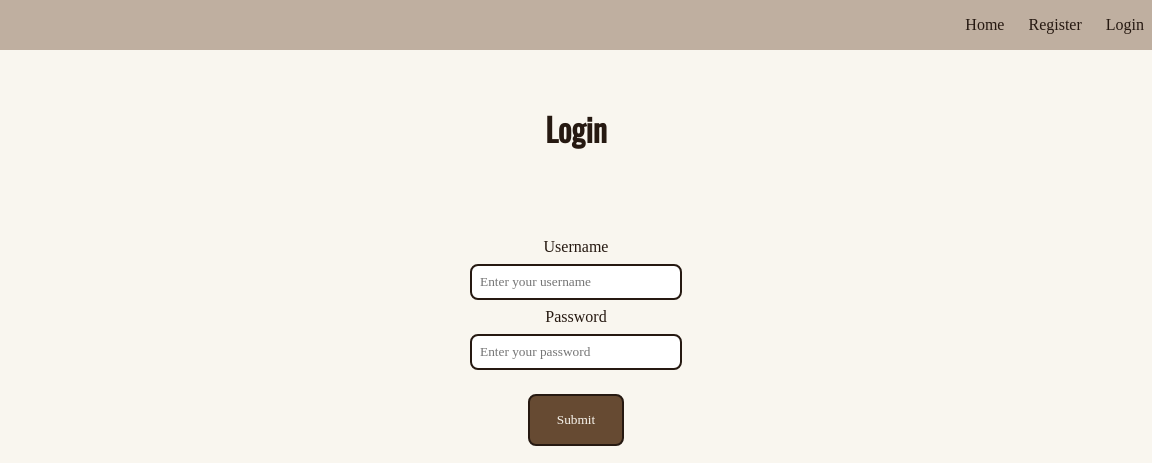
Scenario: Login page › Successfully redirects a user when provided with valid login info
In the field with test id "Username": coordinates (576, 282) [470,264,682,300], type "username here"
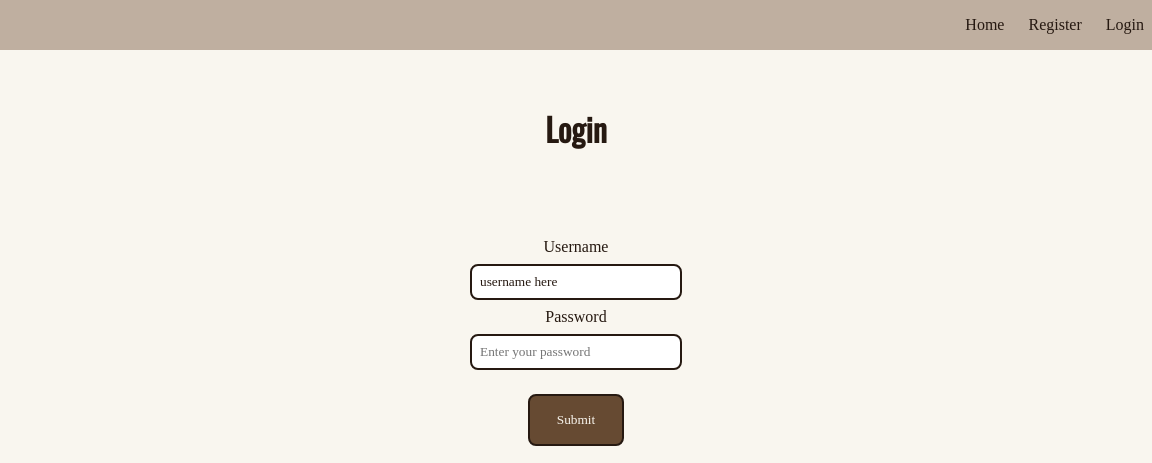
In the password field with test id "Password": coordinates (576, 352) [470,334,682,370], type "password"
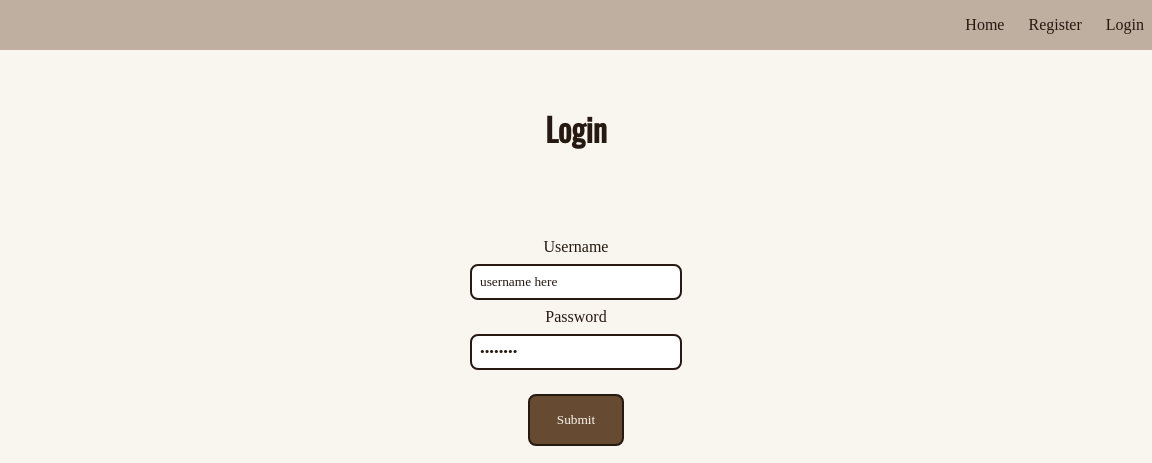
Click the button "Submit": coordinates (576, 420) [528,394,624,446]
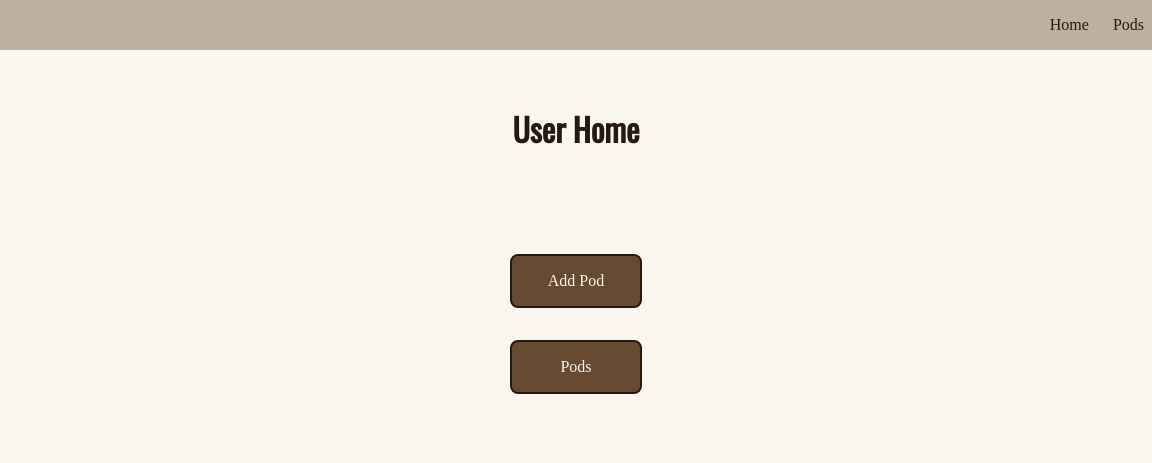
Expected: the heading "User Home" is shown, [512,105,640,152]
